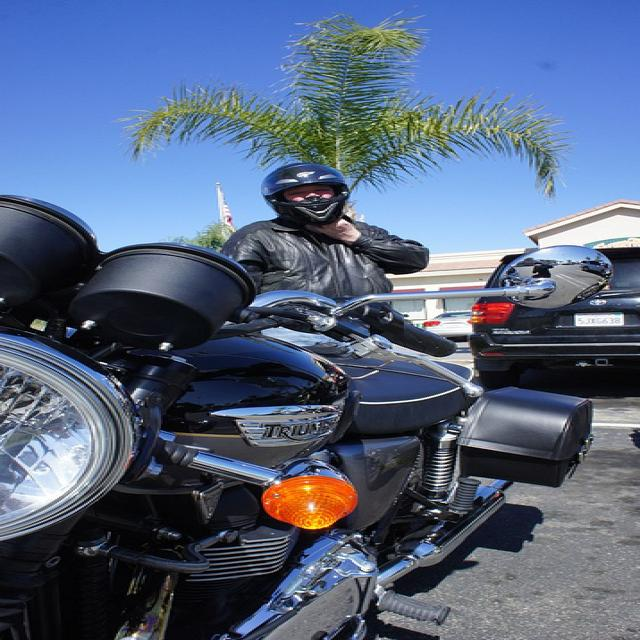motor: (0, 194, 618, 634)
